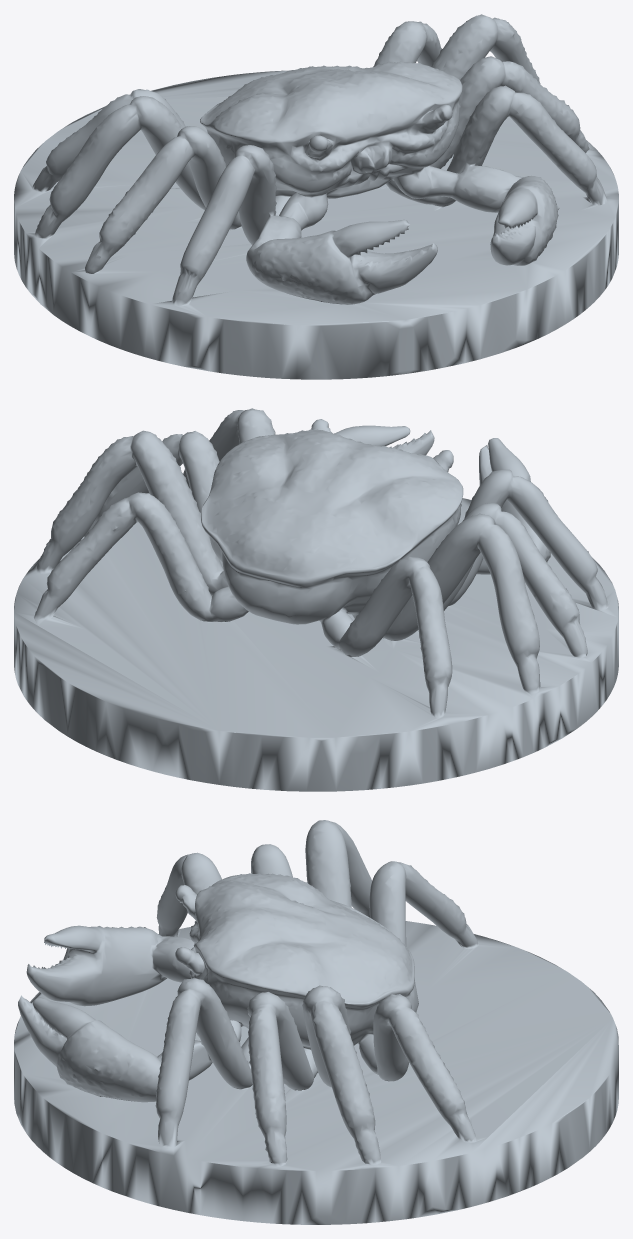
Rendered from giant-crab.glb.
3 renders of one model, top to bottom at view 1: azimuth 30°, elevation 25°; view 2: azimuth 150°, elevation 25°; view 3: azimuth 270°, elevation 25°, orthographic.
Visible parts, largest first — view 1: Giant_Crab.001; view 2: Giant_Crab.001; view 3: Giant_Crab.001.
Boxes of the visible parts, x1,y1,x2,y2 form: Giant_Crab.001: (14,14,618,379); Giant_Crab.001: (14,408,618,791); Giant_Crab.001: (14,820,618,1224).
Bounding box in the file's own units: 25.25 × 8.96 × 25.25.
Materials: 1 (1 with a texture image).
